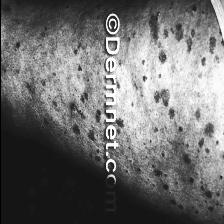Non-Cancerous Skin Condition: (120, 0, 224, 224), (0, 4, 102, 176)
